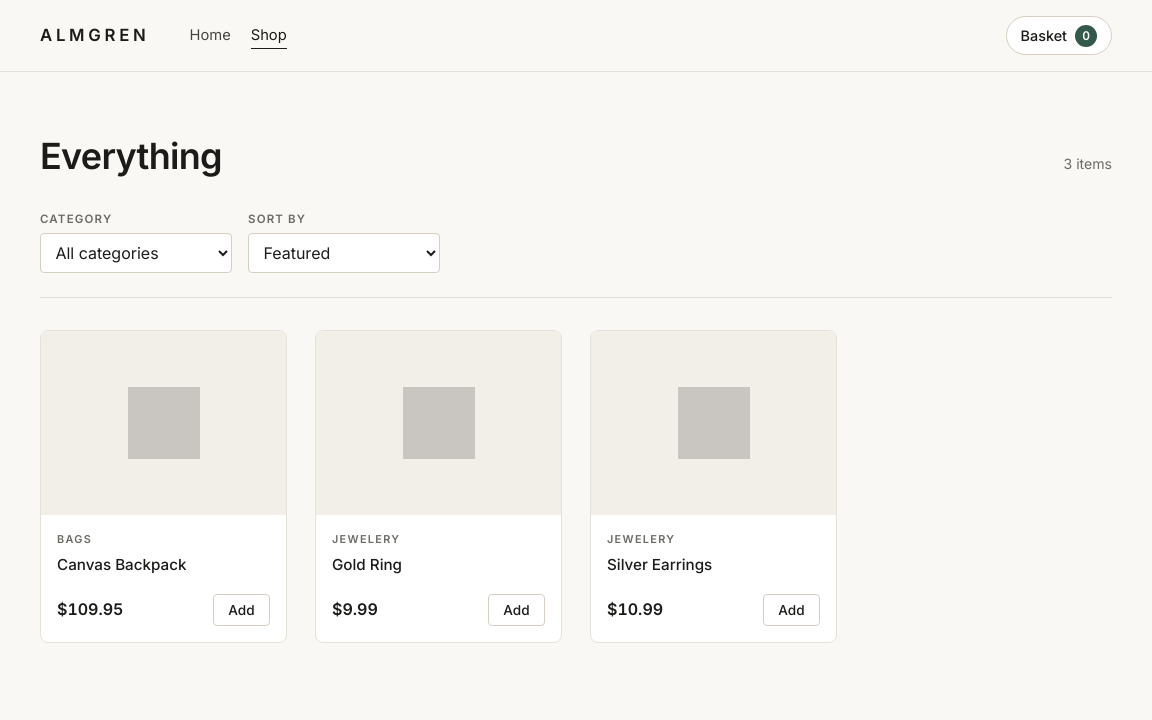
it: adding to the basket › says so on the button once something is in the basket
Click the button with aria-label "add Canvas Backpack to basket": coordinates (241, 610) [213,594,270,626]
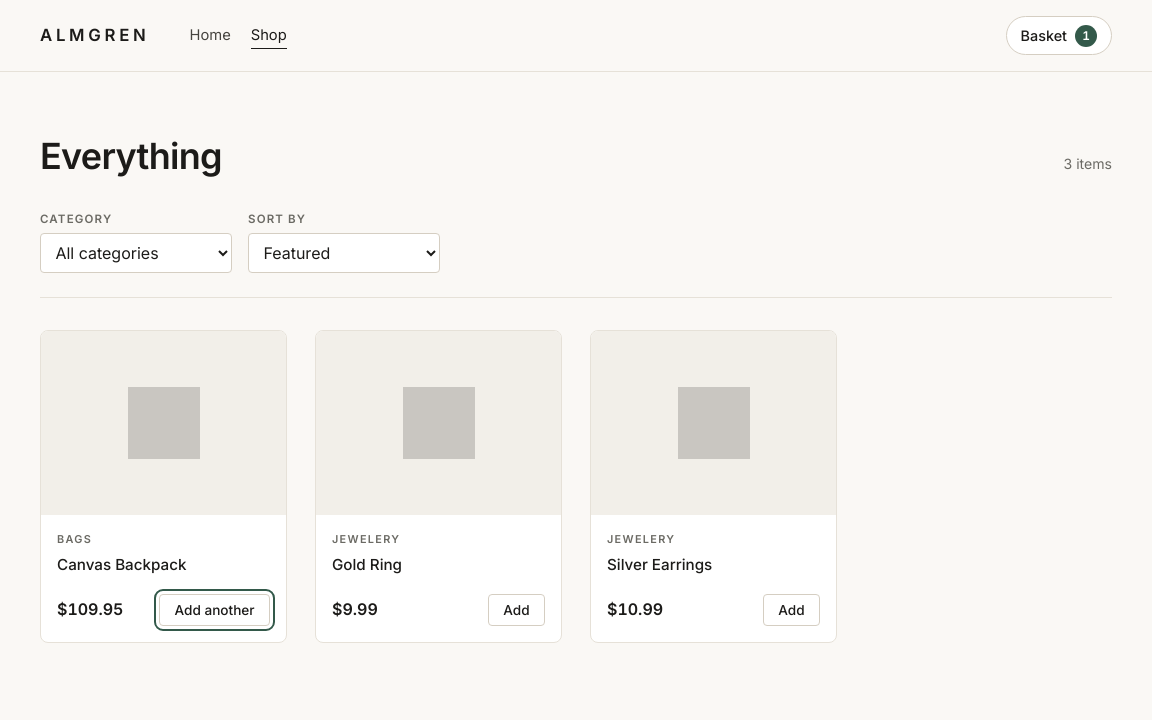
Expected: the button with aria-label "add another Canvas Backpack to basket" is shown, [159,594,270,626]
